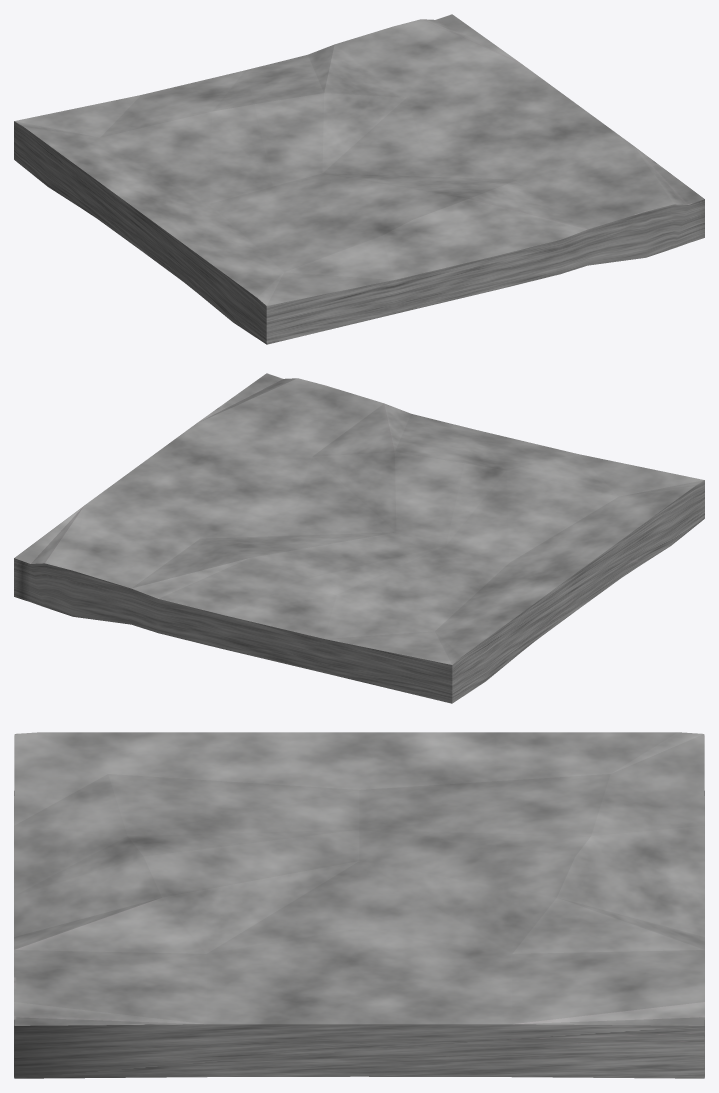
Rendered from Shelf1.gltf.
3 renders of one model, top to bottom at view 1: azimuth 30°, elevation 25°; view 2: azimuth 150°, elevation 25°; view 3: azimuth 270°, elevation 25°, orthographic. The views are drawn at different scales.
Parts seen in each view (by area): view 1: Shelf1; view 2: Shelf1; view 3: Shelf1.
Part boxes in pixels (left/top/right/bottom): Shelf1: left=14, top=14, right=704, bottom=344; Shelf1: left=14, top=373, right=704, bottom=703; Shelf1: left=14, top=732, right=704, bottom=1078.
Bounding box in the file's own units: 5 × 0.5763 × 5.
1 material, 1 textured.
